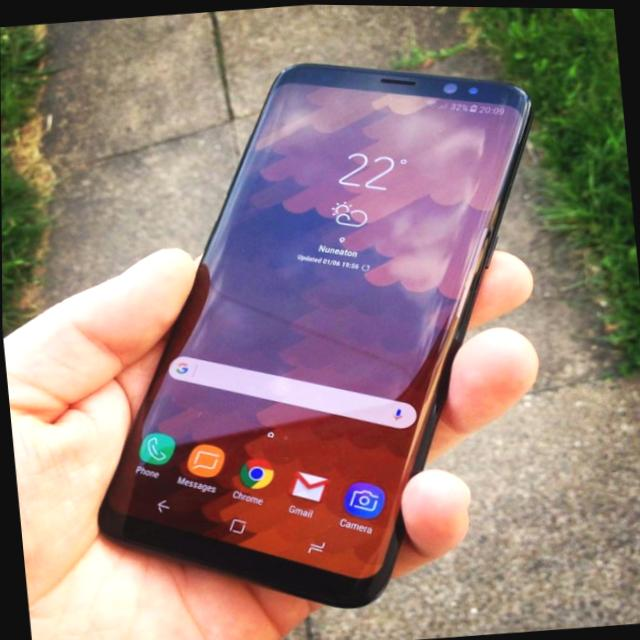Smartphone: (65, 52, 551, 632)
